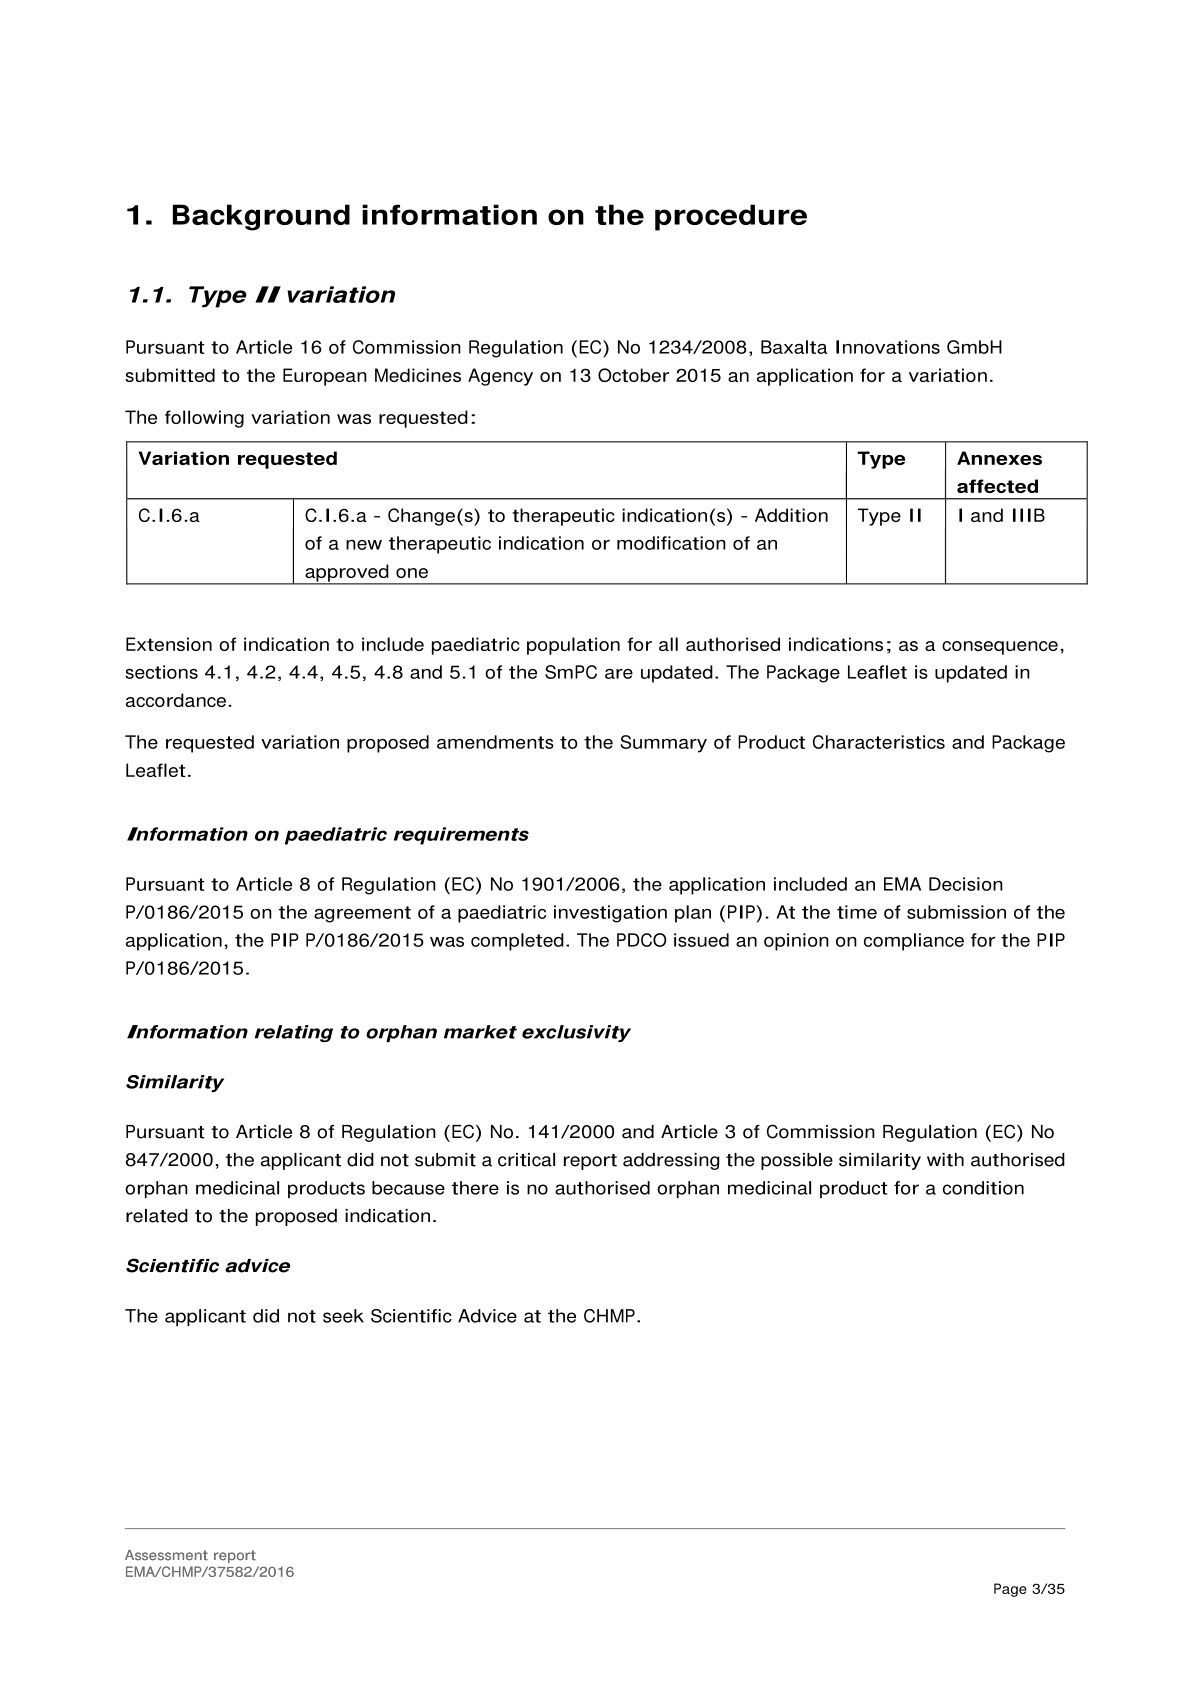merged_cells: (125, 440, 1090, 586)
